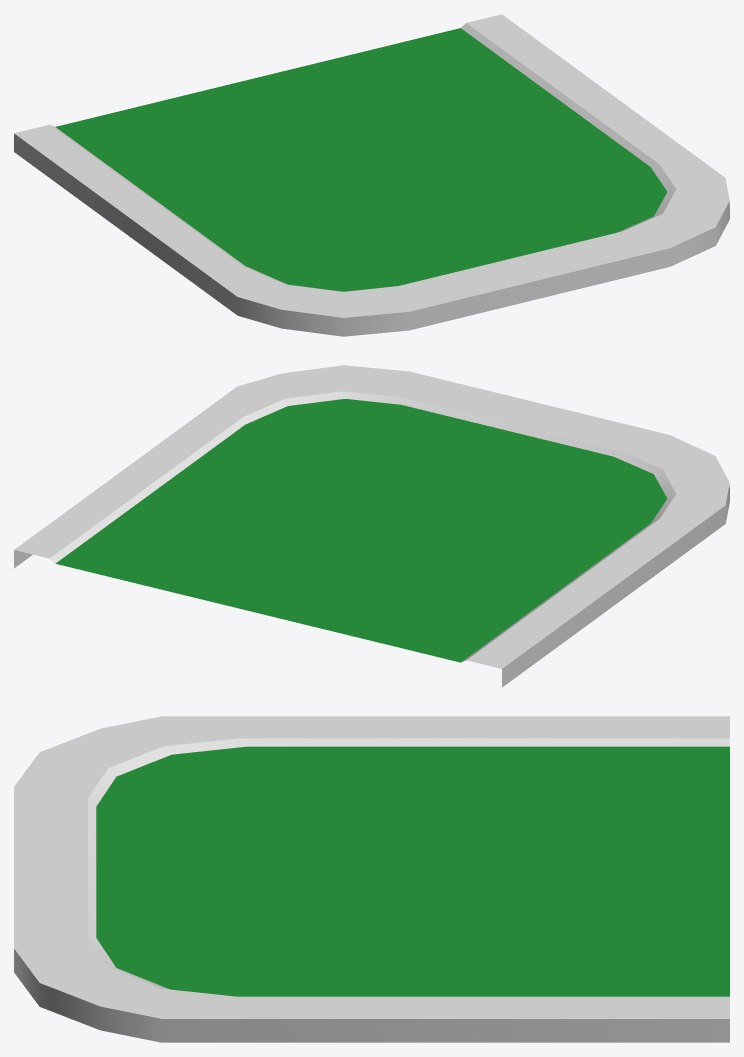
Rendered from GrassBed_1_A_8.fbx.
3 views of the same model, one above another, from view 1: azimuth 30°, elevation 25°; view 2: azimuth 150°, elevation 25°; view 3: azimuth 270°, elevation 25° (orthographic). The views are drawn at different scales.
Parts seen in each view (by area): view 1: GrassBed_1_A_8; view 2: GrassBed_1_A_8; view 3: GrassBed_1_A_8.
Boxes of the visible parts, <box> form: GrassBed_1_A_8: <box>14,14,729,336</box>; GrassBed_1_A_8: <box>14,365,729,687</box>; GrassBed_1_A_8: <box>14,716,729,1042</box>.
Size of the model in its own units: 200 by 7.32 by 200.
